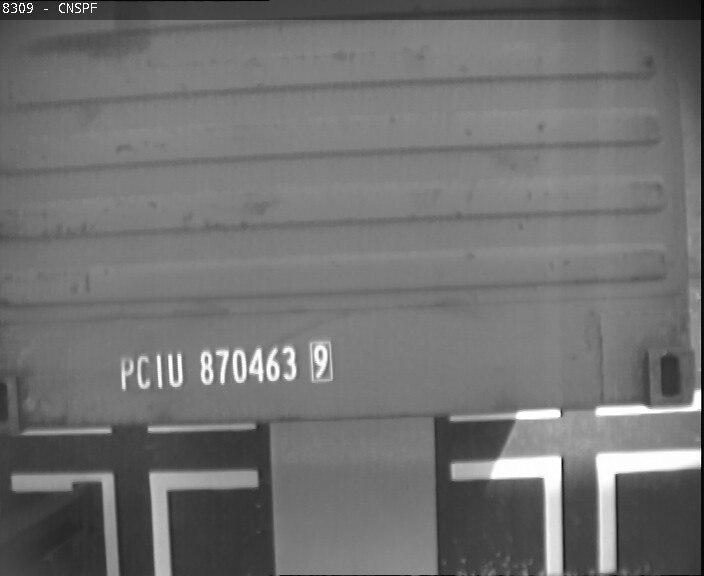groundmarker_1: (449, 446, 704, 576), (13, 469, 259, 575)
